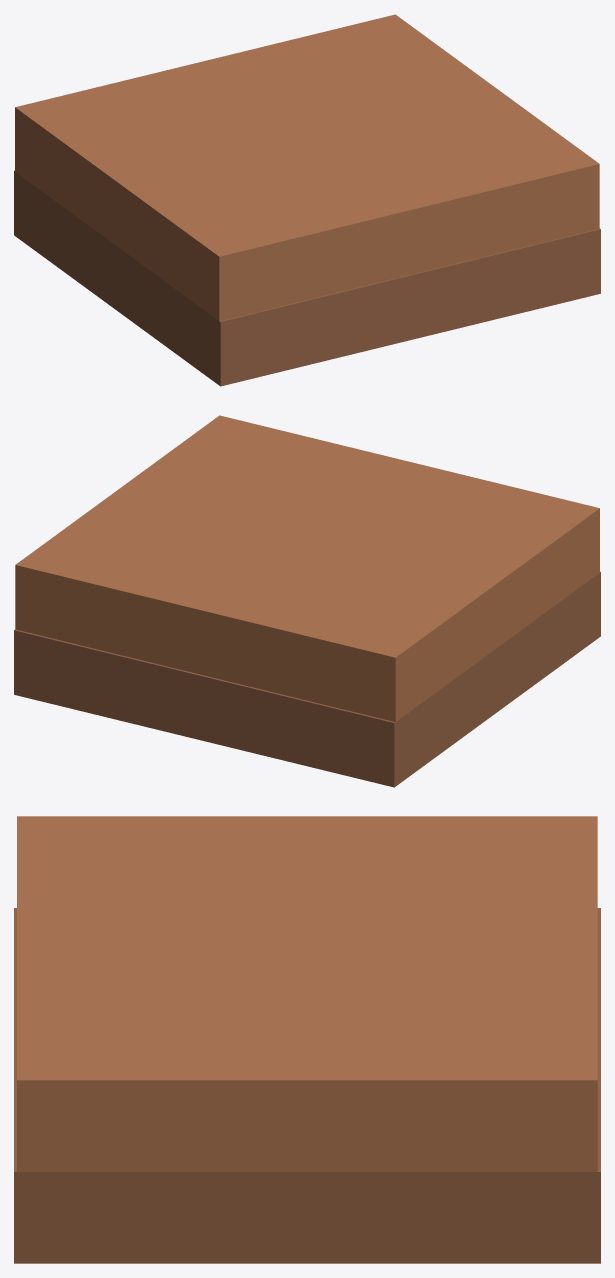
The model's file is dust_jump.fbx.
3 renders of one model, top to bottom at view 1: azimuth 30°, elevation 25°; view 2: azimuth 150°, elevation 25°; view 3: azimuth 270°, elevation 25°, orthographic. The views are drawn at different scales.
Parts seen in each view (by area): view 1: root (×2); view 2: root (×2); view 3: root (×2).
Part boxes in pixels (x1,y1,x2,y2): root (×2): (14,14,600,386); root (×2): (14,415,600,787); root (×2): (14,816,600,1263).
Size of the model in its own units: 94.29 by 30.54 by 88.65.
2 materials, 2 textured.
